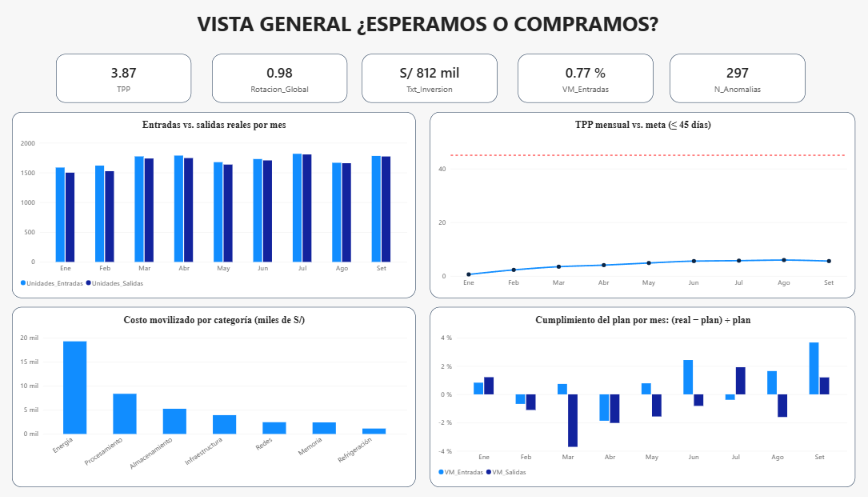

This screenshot's page, from the dashboard's own definition file:
{"tool":"powerbi","page":{"name":"Gerencial","canvas":[1920,1080],"ordinal":0},"visuals":[{"type":"card","fields":{"Values":["Fact_Movimiento.TPP"]},"box":[190.5,136.5,280,100.8],"z":0},{"type":"card","fields":{"Values":["Fact_Movimiento.Rotacion_Global"]},"box":[513,136.5,280,100.8],"z":1000},{"type":"card","fields":{"Values":["Fact_Movimiento.Txt_Inversion"]},"box":[823,136.5,280,100.8],"z":2000},{"type":"card","fields":{"Values":["Fact_Movimiento.VM_Entradas"]},"box":[1145.5,136.5,280,100.8],"z":3000},{"type":"card","fields":{"Values":["Fact_Movimiento.N_Anomalias"]},"box":[1460.5,136.5,280,100.8],"z":4000},{"type":"clusteredColumnChart","title":"Entradas vs. salidas reales por mes","fields":{"Category":["Dim_Tiempo.Mes_Corto"],"Y":["Fact_Movimiento.Unidades_Entradas","Fact_Movimiento.Unidades_Salidas"]},"box":[99,256.5,835,385],"z":5000},{"type":"lineChart","title":"TPP mensual vs. meta (≤ 45 días)","fields":{"Category":["Dim_Tiempo.Mes_Corto"],"Y":["Fact_Movimiento.TPP"]},"box":[964,256.5,880,385],"z":6000},{"type":"clusteredColumnChart","title":"Costo movilizado por categoría (miles de S/)","fields":{"Category":["Dim_Producto.Categoria"],"Y":["Fact_Movimiento.Costo_Movilizado_Miles"]},"box":[99,659,835,372.5],"z":7000},{"type":"clusteredColumnChart","title":"Cumplimiento del plan por mes: (real − plan) ÷ plan","fields":{"Category":["Dim_Tiempo.Mes_Corto"],"Y":["Fact_Movimiento.VM_Entradas","Fact_Movimiento.VM_Salidas"]},"box":[964,659,880,372.5],"z":8000},{"type":"textbox","box":[482,44,964,74],"z":9000}]}

Visuals, with their boxes in screenshot pixels (x1, y1, x2, y2), scaled from the page's 1920x1080 canvas onto the 868x497 screenshot:
card - Fact_Movimiento.TPP: x1=86, y1=63, x2=213, y2=109
card - Fact_Movimiento.Rotacion_Global: x1=232, y1=63, x2=359, y2=109
card - Fact_Movimiento.Txt_Inversion: x1=372, y1=63, x2=499, y2=109
card - Fact_Movimiento.VM_Entradas: x1=518, y1=63, x2=644, y2=109
card - Fact_Movimiento.N_Anomalias: x1=660, y1=63, x2=787, y2=109
"Entradas vs. salidas reales por mes" clusteredColumnChart: x1=45, y1=118, x2=422, y2=295
"TPP mensual vs. meta (≤ 45 días)" lineChart: x1=436, y1=118, x2=834, y2=295
"Costo movilizado por categoría (miles de S/)" clusteredColumnChart: x1=45, y1=303, x2=422, y2=475
"Cumplimiento del plan por mes: (real − plan) ÷ plan" clusteredColumnChart: x1=436, y1=303, x2=834, y2=475
textbox: x1=218, y1=20, x2=654, y2=54
